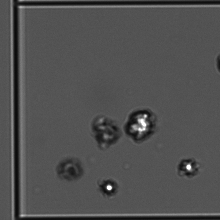Dead Cell: (87, 110, 122, 152), (52, 155, 85, 182)
Living Cell: (123, 105, 160, 141), (176, 156, 203, 180), (95, 176, 123, 198)
